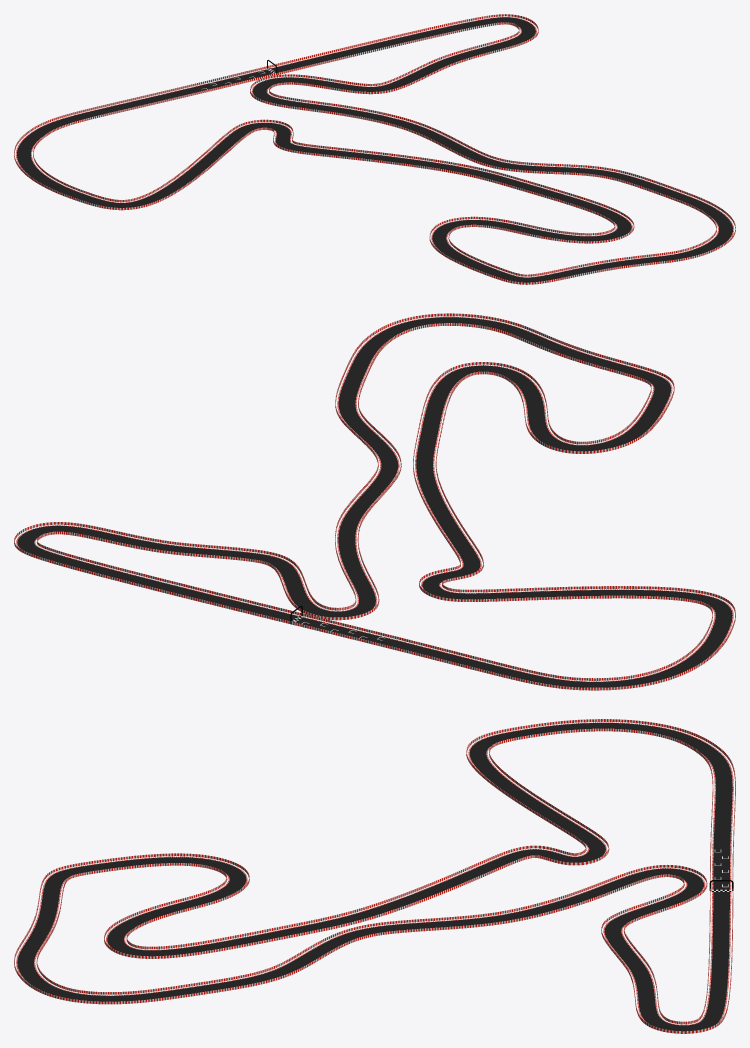
Rendered from zandvoort.fbx.
3 views of the same model, one above another, from view 1: azimuth 30°, elevation 25°; view 2: azimuth 150°, elevation 25°; view 3: azimuth 270°, elevation 25° (orthographic). The views are drawn at different scales.
Parts seen in each view (by area): view 1: Road; view 2: Road; view 3: Road.
Part boxes in pixels (x1,y1,x2,y2): Road: (14, 14, 735, 284); Road: (14, 313, 735, 690); Road: (14, 719, 735, 1033).
Size of the model in its own units: 27159 by 447 by 26524.
